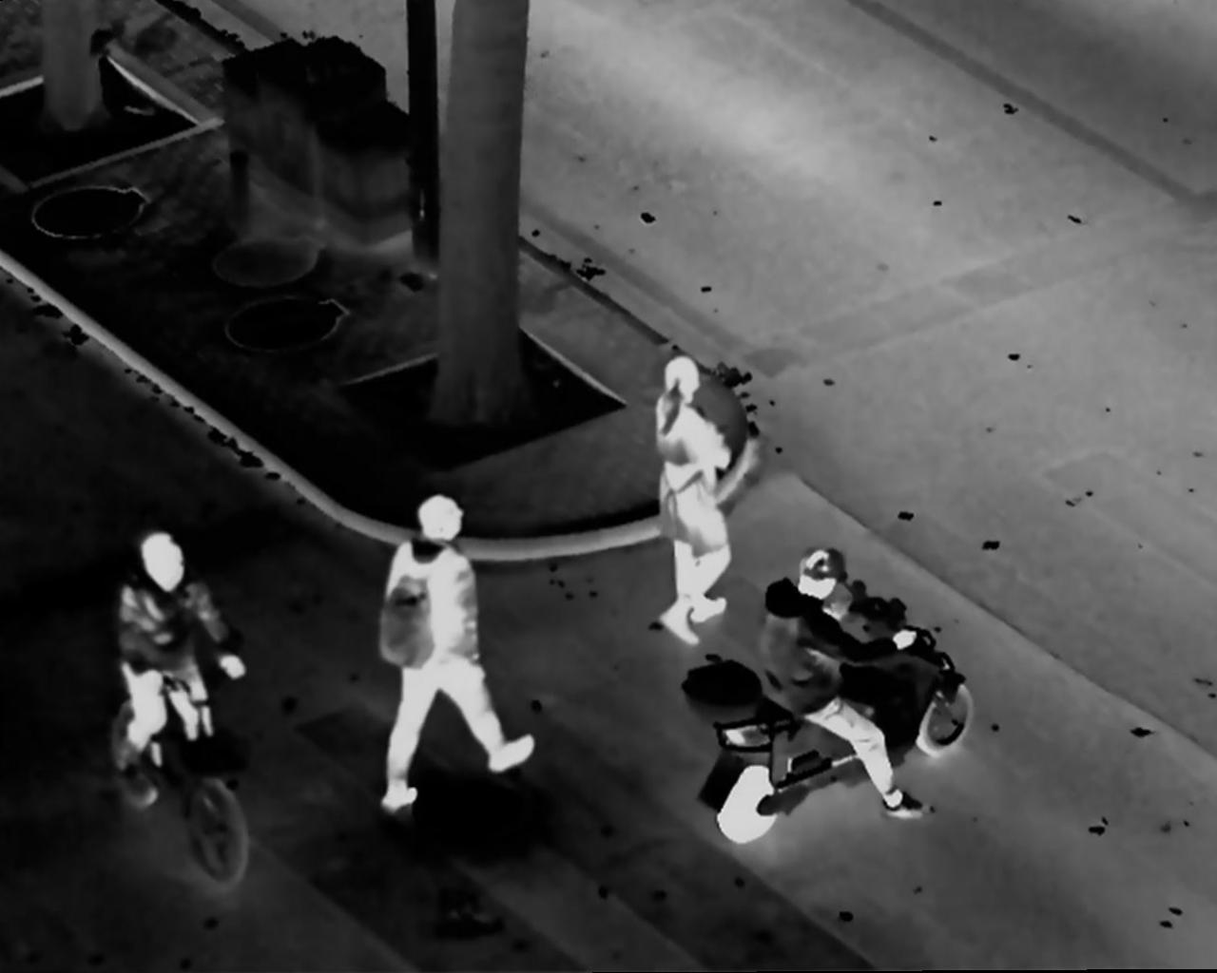person: (372, 490, 534, 823), (760, 544, 930, 821), (115, 522, 245, 804), (653, 351, 733, 651)
